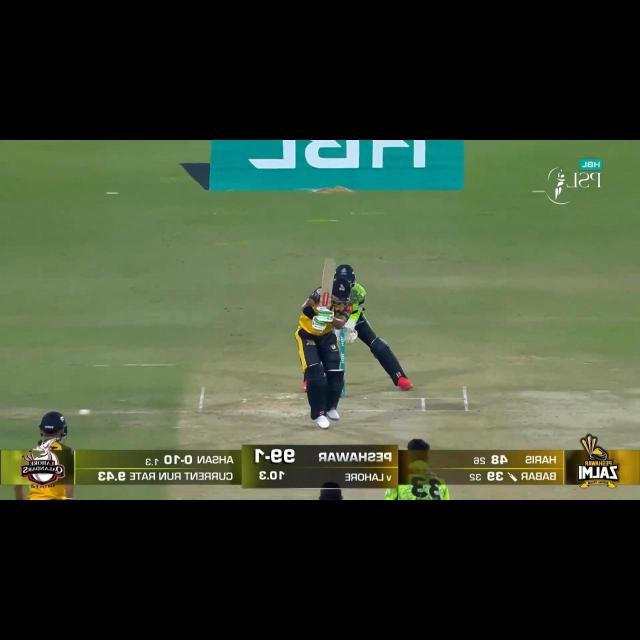bat: (321, 259, 338, 307)
toe: (323, 259, 340, 270)
